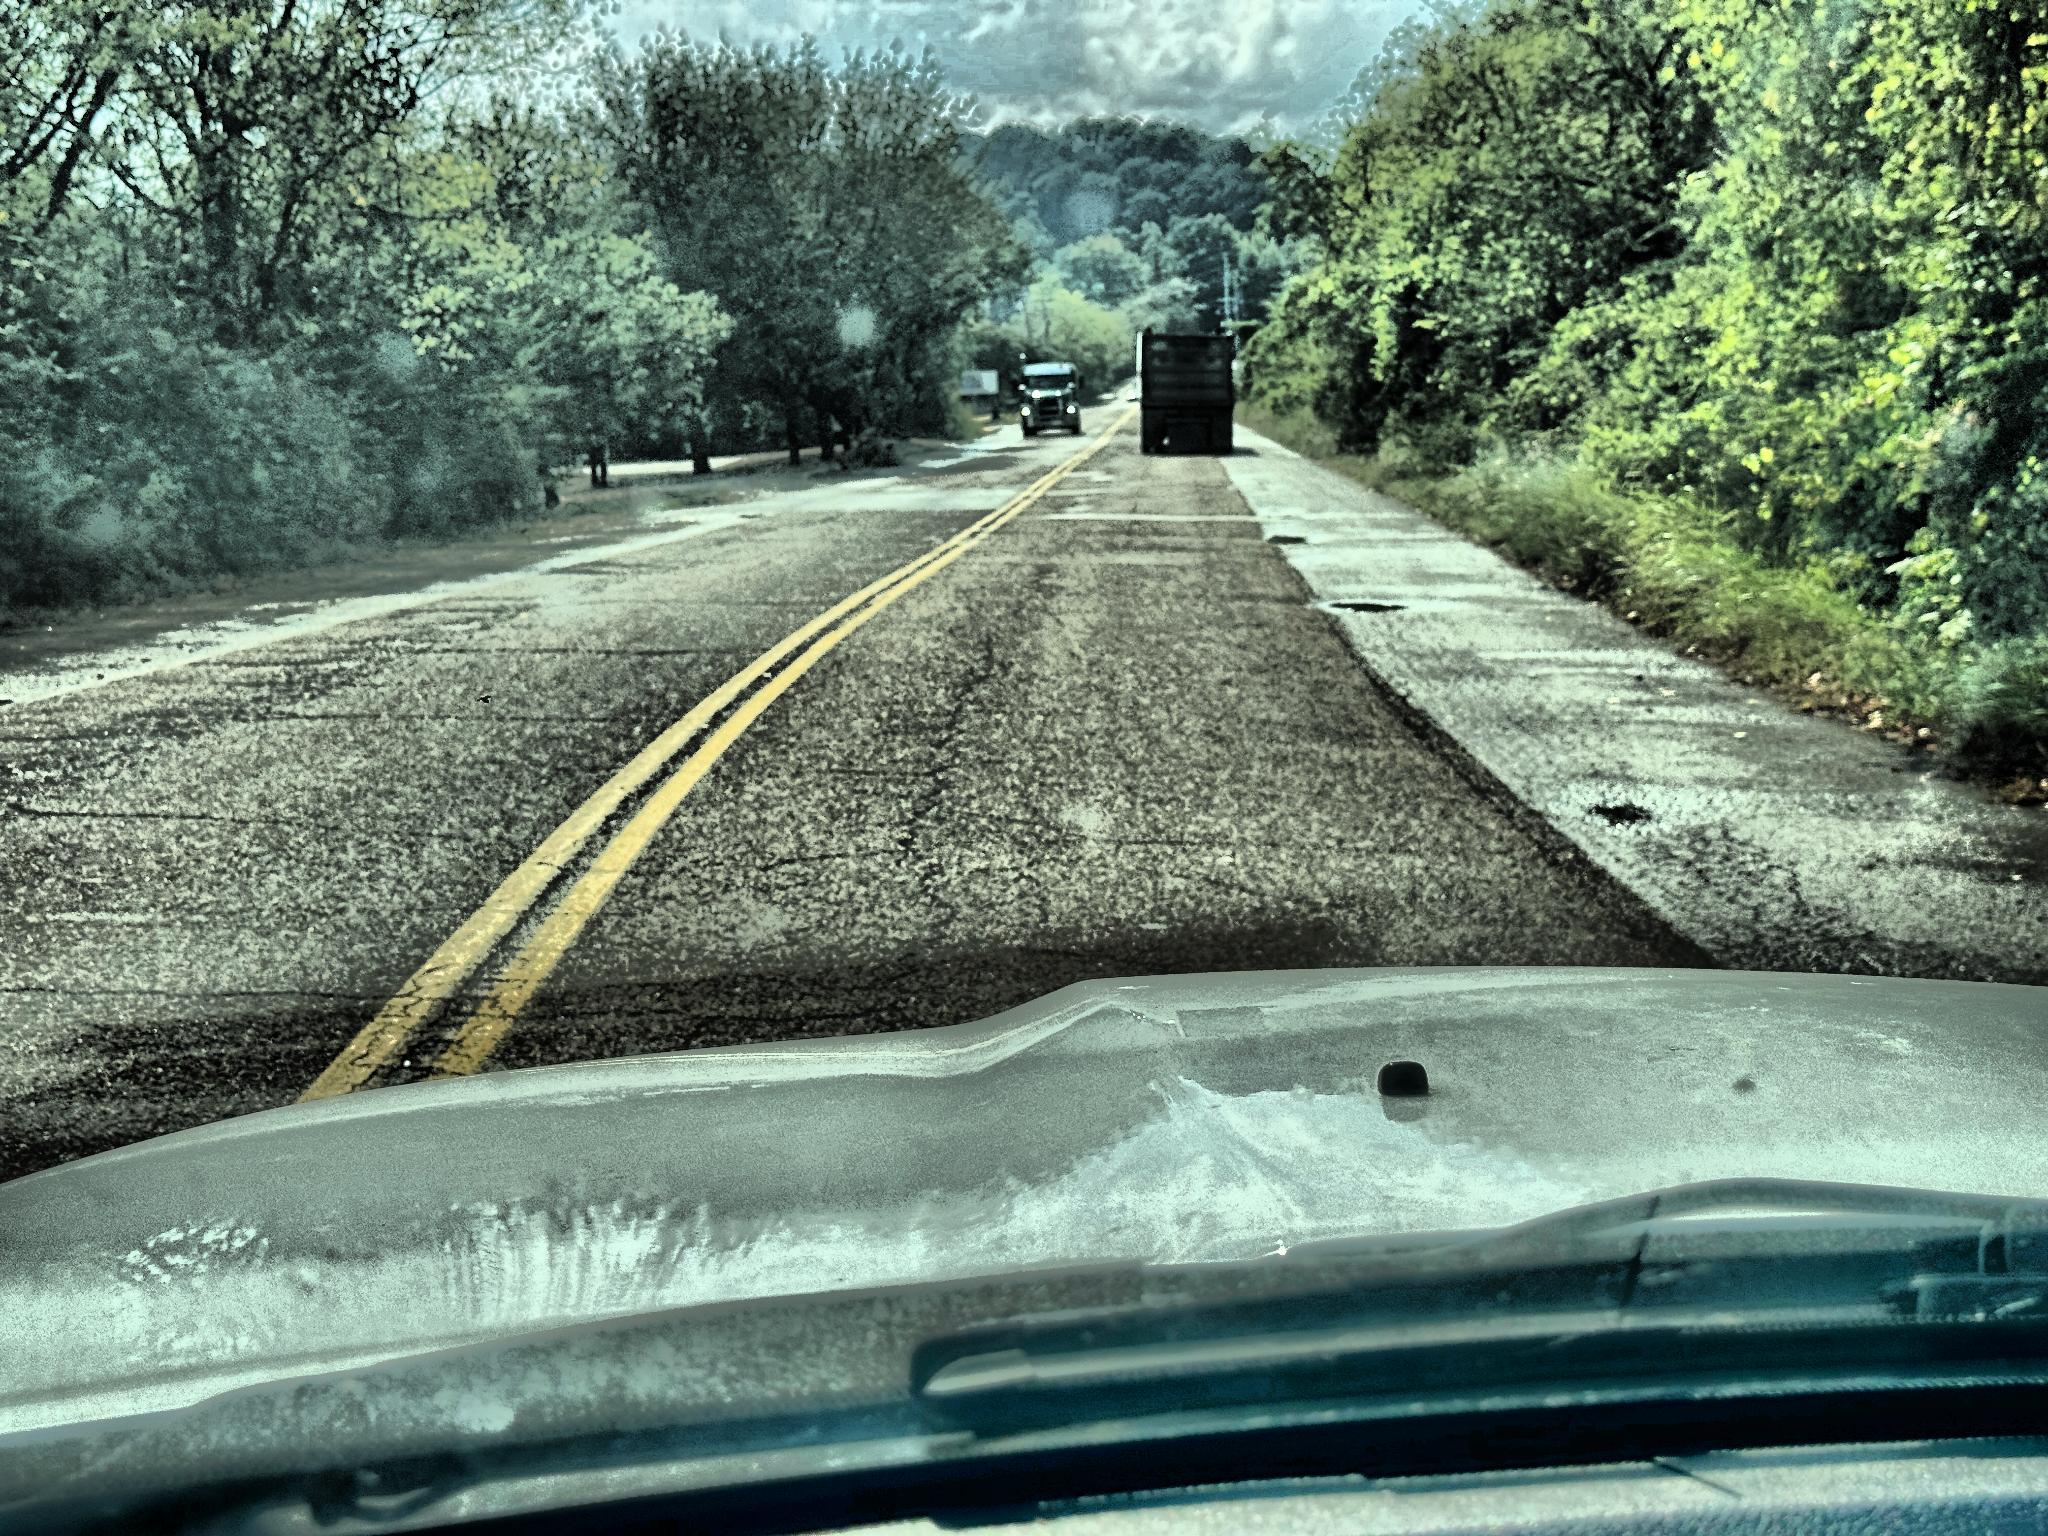pothole: (1590, 766, 1653, 845), (1313, 592, 1409, 624), (1263, 526, 1329, 553)
